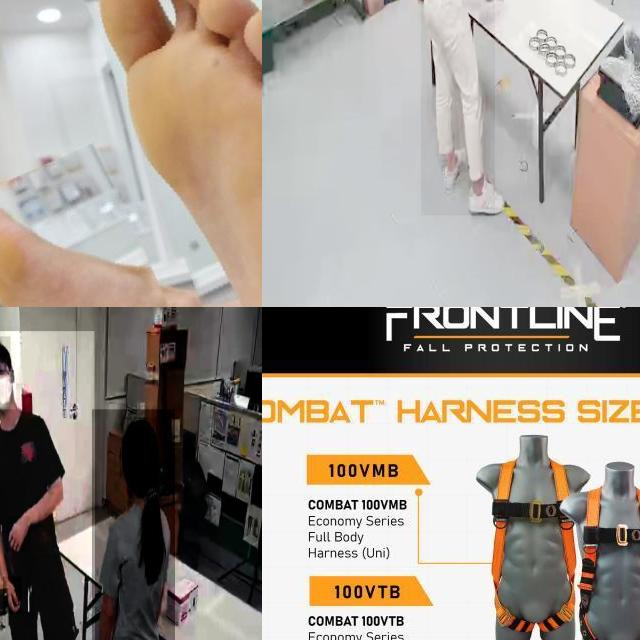Barefoots: (97, 0, 262, 307), (0, 140, 205, 307)
Harness: (492, 460, 576, 632), (580, 488, 640, 640), (556, 595, 574, 622)
face_mask: (0, 371, 16, 409)
hand_noglove: (6, 516, 31, 552), (3, 576, 22, 614)
head_nohelmet: (121, 417, 157, 455), (0, 336, 11, 363)
person: (0, 331, 95, 640), (92, 409, 175, 640), (420, 0, 495, 216)
shoes: (467, 168, 509, 222), (441, 144, 467, 195)
